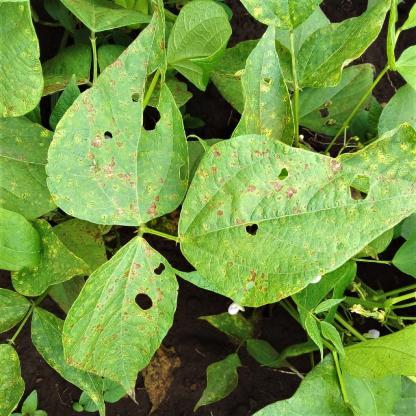Beans_Angular_LeafSpot: (182, 138, 411, 310), (37, 8, 195, 226), (60, 237, 178, 400)
